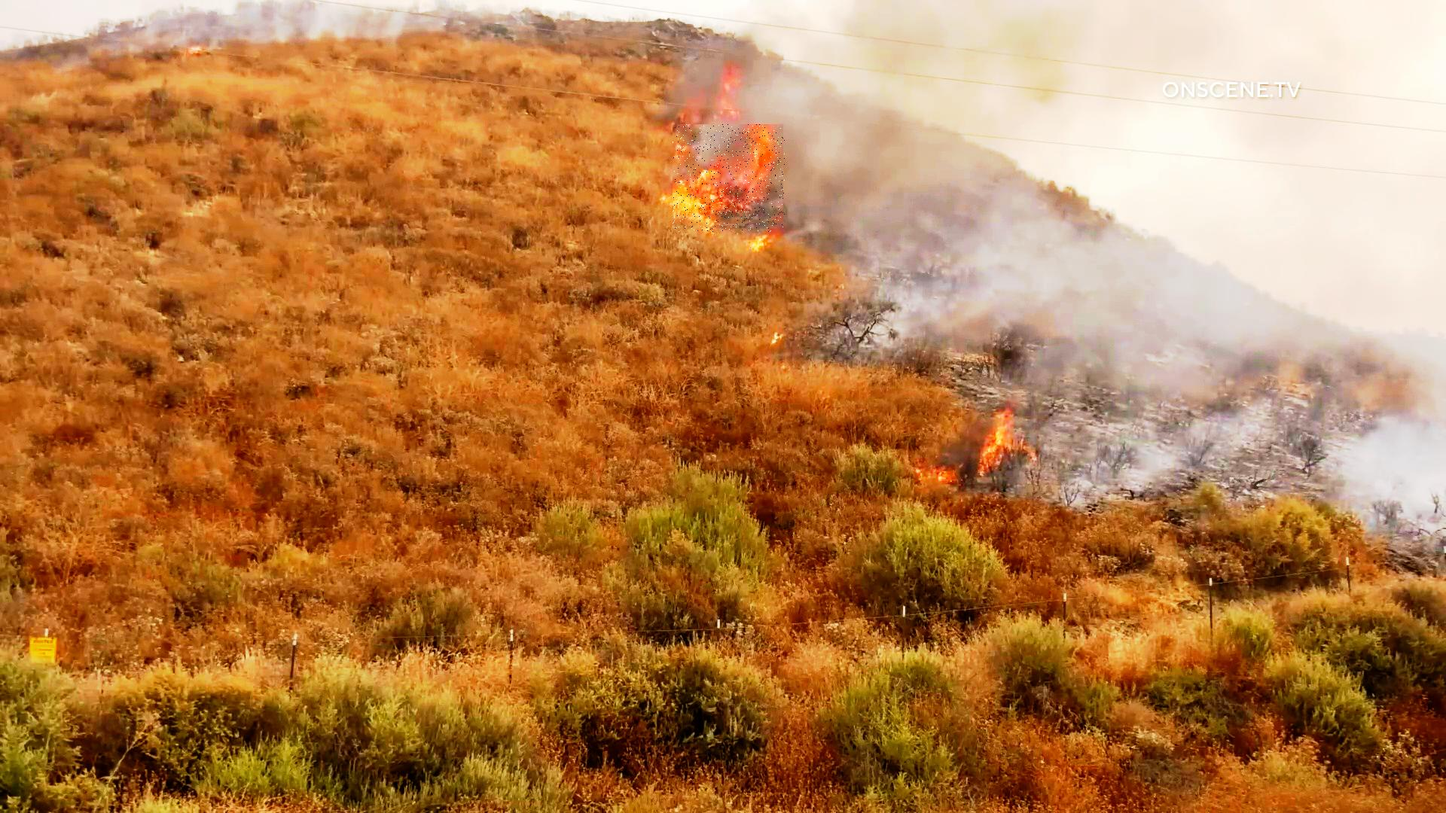fire: (673, 125, 786, 232)
